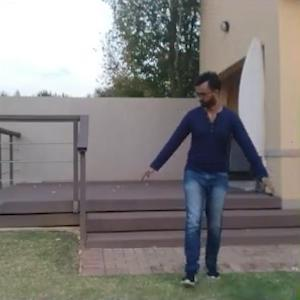land: (113, 53, 292, 293)
